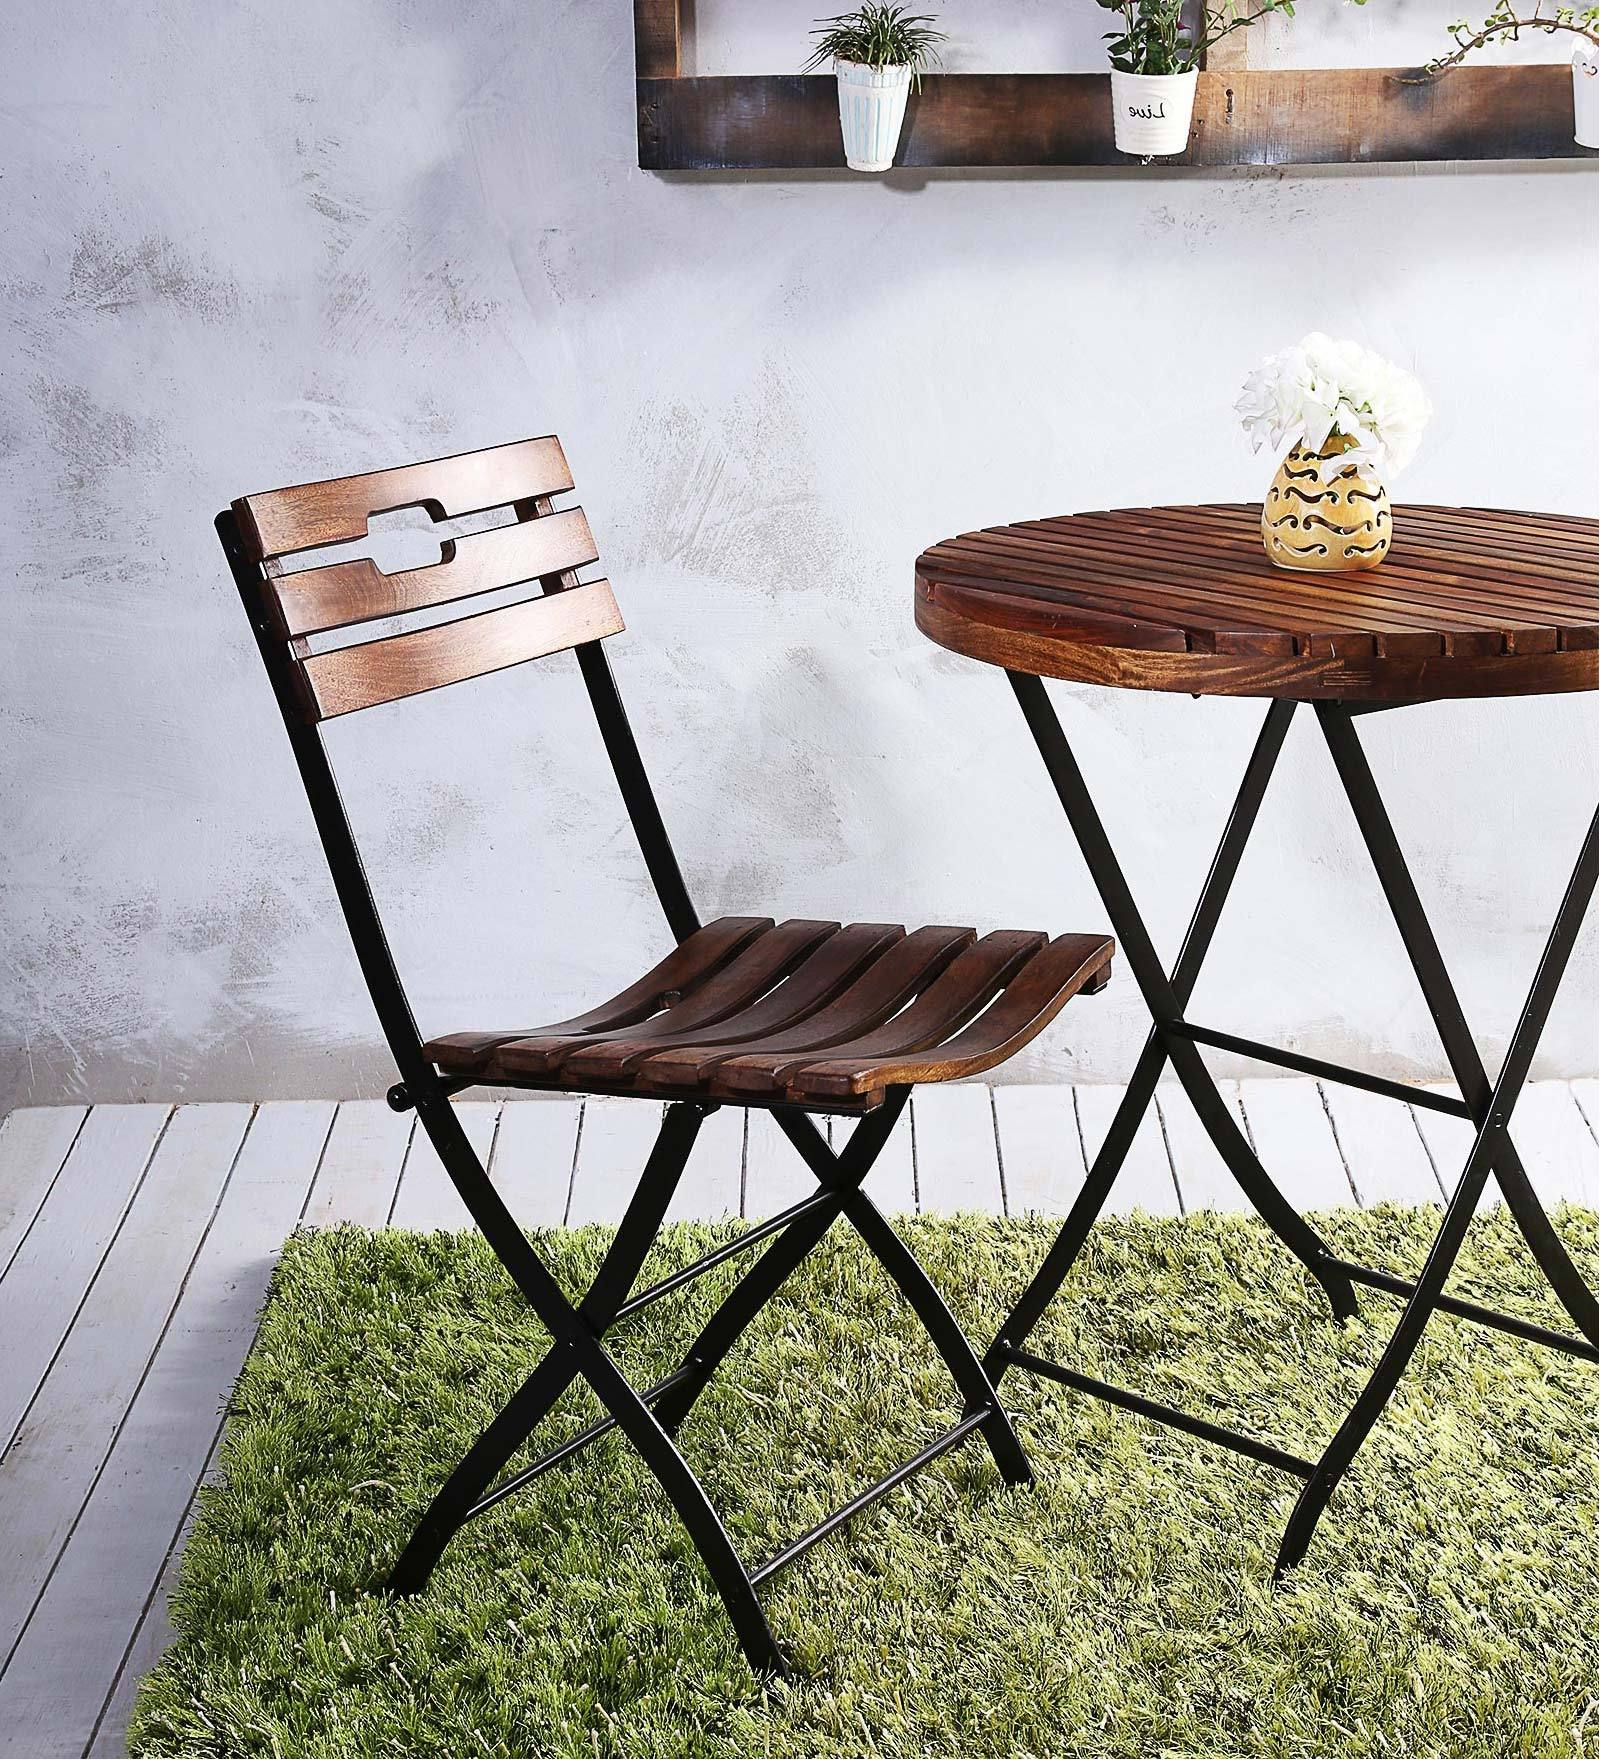Mexico Folding Chair with Provincial Teak Finish by Bohemiana: (221, 428, 1123, 1686)
